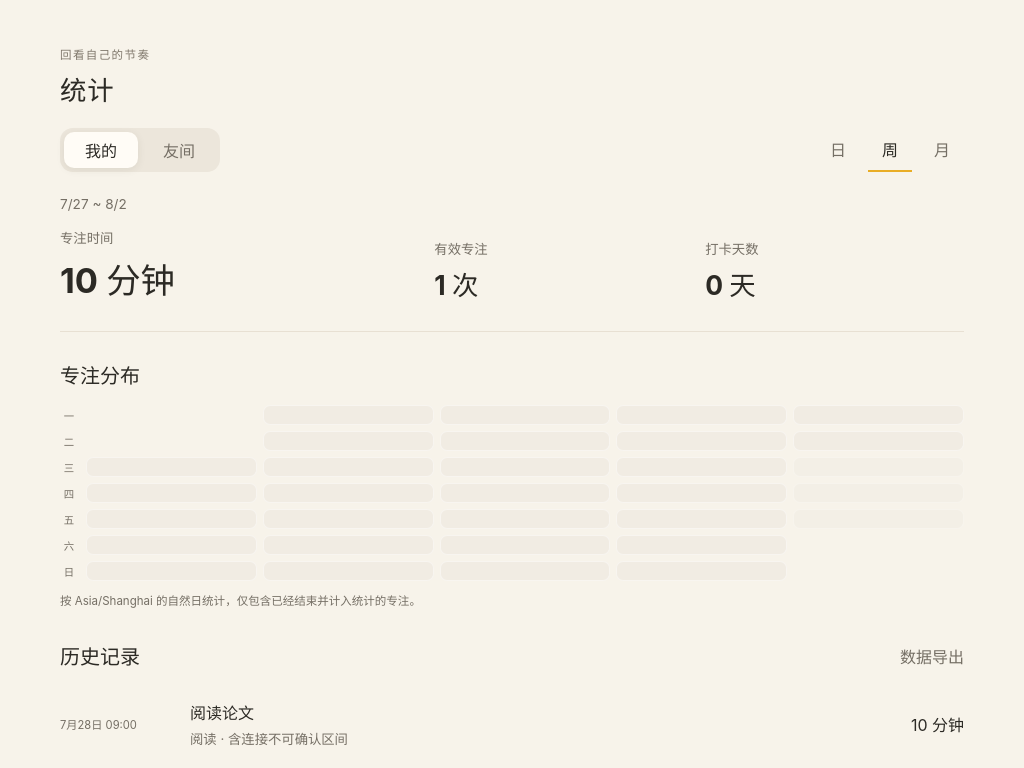
Scenario: StatsPage session detail › loads authoritative segments and connection intervals on demand
Step 1. Click the button "7月28日 09:00 阅读论文 阅读 · 含连接不可确认区间 10 分钟" → (98, 725), box [60,684,964,764]
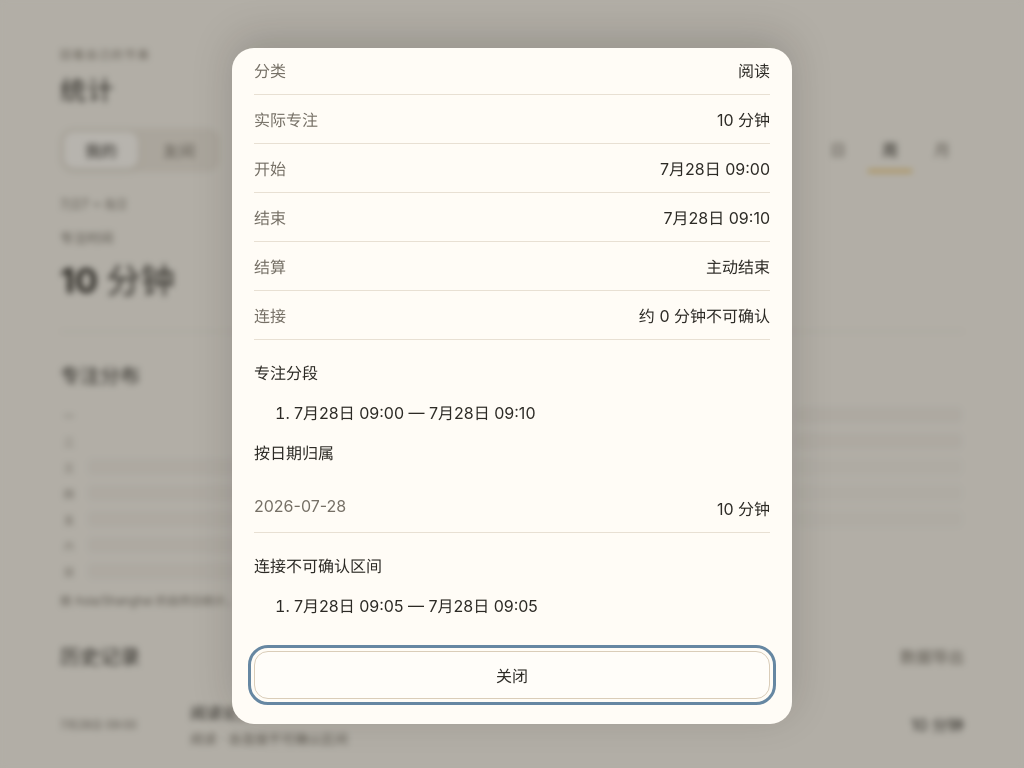
Check: the heading "专注分段" is shown, box [254,362,318,382]
Check: the heading "连接不可确认区间" is shown, box [254,556,382,576]
